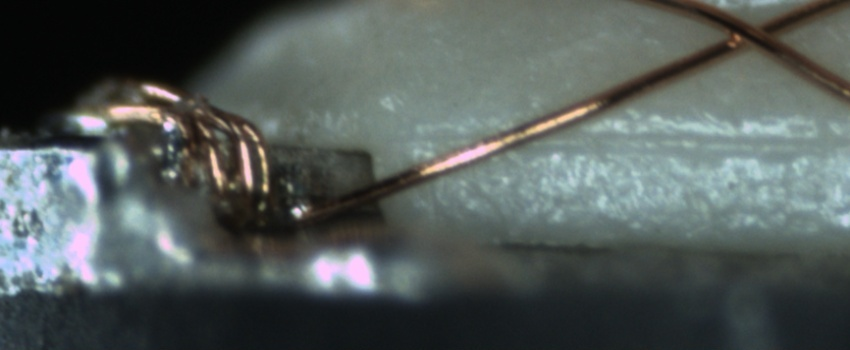CL: (701, 3, 793, 59)
DL: (415, 108, 850, 173)
TE: (68, 68, 276, 222)
